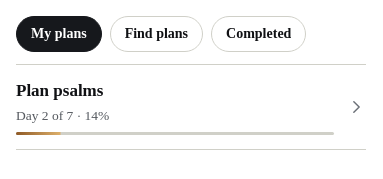
Test: the chips › sorts the library: started plans under My plans, the rest under Find plans, finished under Completed
Expected: the button with test id "plan-psalms" is shown, left=16, top=65, right=366, bottom=150
Step 1. Click the button with test id "plans-chip-find" → (156, 34), box left=110, top=16, right=203, bottom=52
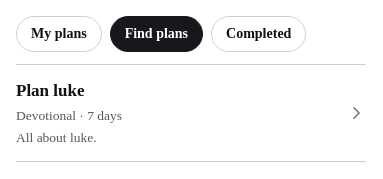
Expected: the button with test id "plan-luke" is shown, left=16, top=65, right=366, bottom=162
Expected: the button with test id "plan-psalms" is gone
Step 2. Click the button with test id "plans-chip-completed" → (259, 34), box left=211, top=16, right=306, bottom=52
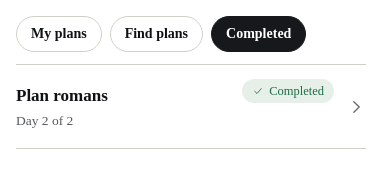
Expected: the button with test id "plan-romans" is shown, left=16, top=65, right=366, bottom=149
Expected: the button with test id "plan-luke" is gone
